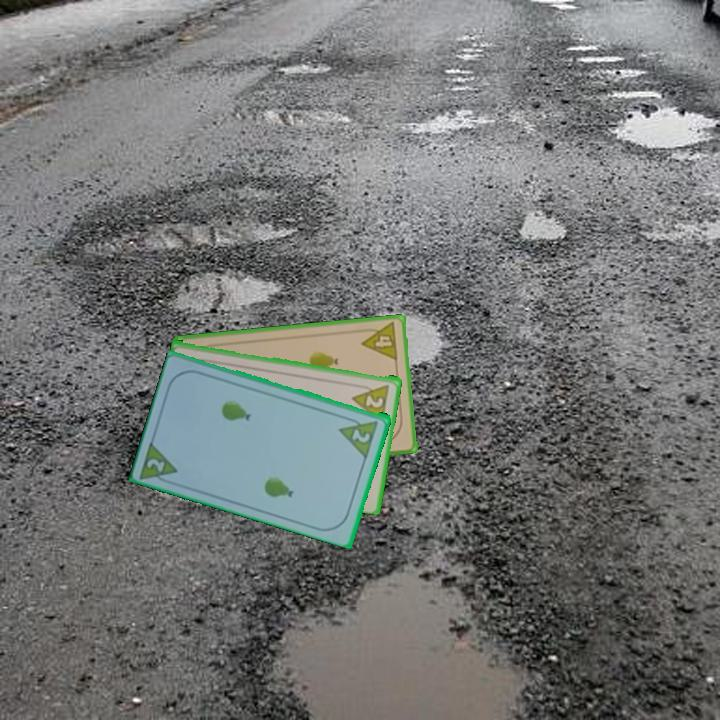2p: (137, 436, 181, 488), (336, 412, 381, 459), (349, 381, 392, 424)
4p: (357, 319, 401, 363)
